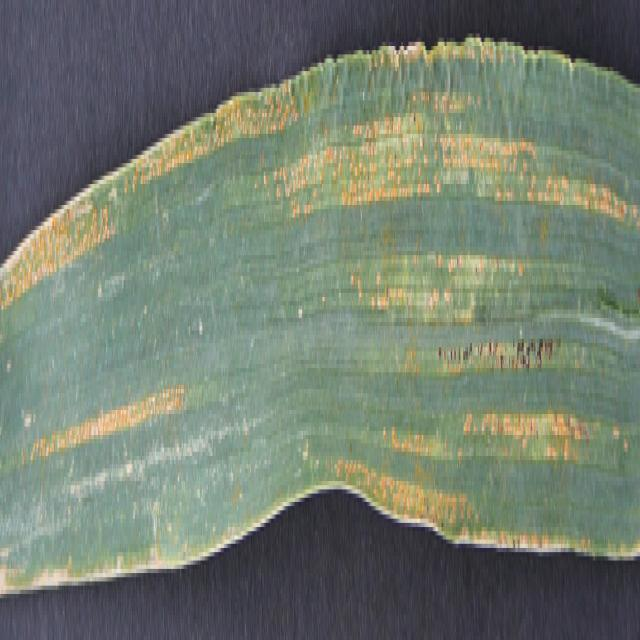leaf rust: (0, 42, 640, 590)
